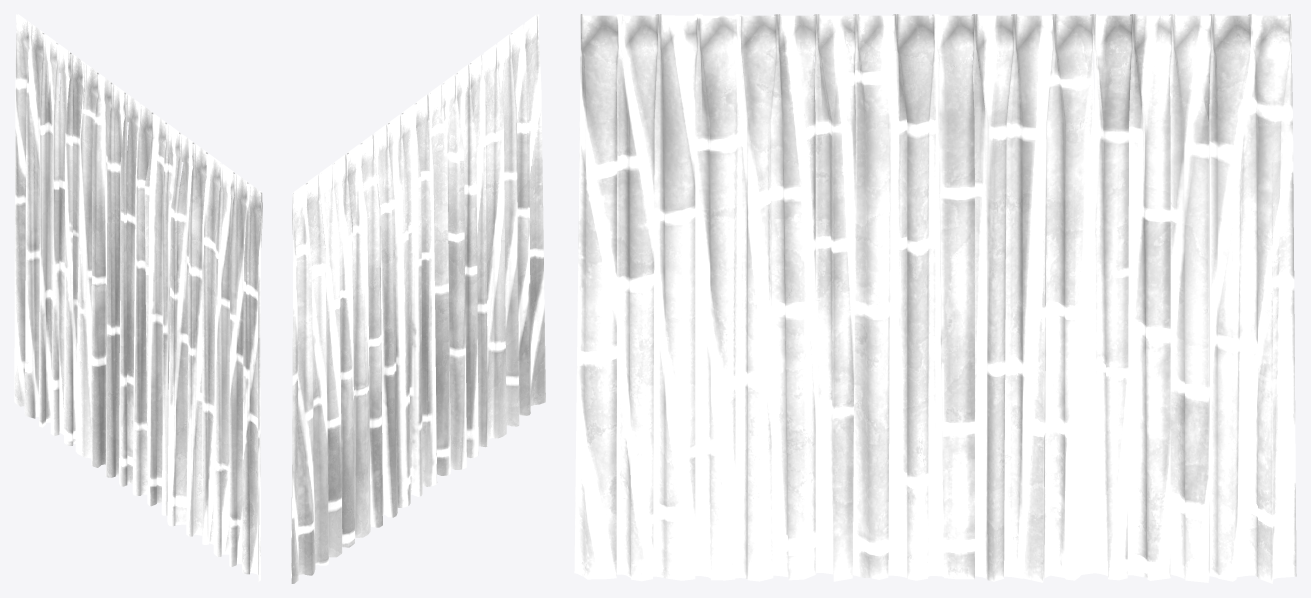
Rendered from SM_CurtainSingle.fbx.
3 renders of one model, left to right at view 1: azimuth 30°, elevation 25°; view 2: azimuth 150°, elevation 25°; view 3: azimuth 270°, elevation 25°, orthographic. The views are drawn at different scales.
Visible parts, largest first — view 1: SM_CurtainSingle; view 2: SM_CurtainSingle; view 3: SM_CurtainSingle.
Boxes of the visible parts, x1,y1,x2,y2 form: SM_CurtainSingle: (14, 14, 262, 582); SM_CurtainSingle: (291, 14, 545, 583); SM_CurtainSingle: (574, 14, 1296, 583).
Bounding box in the file's own units: 9.64 × 223 × 193.
Materials: 1 (1 with a texture image).
